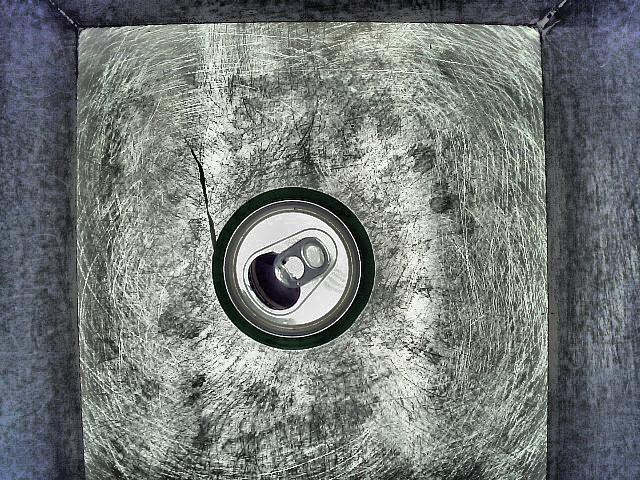Bottles: (186, 147, 377, 349)
